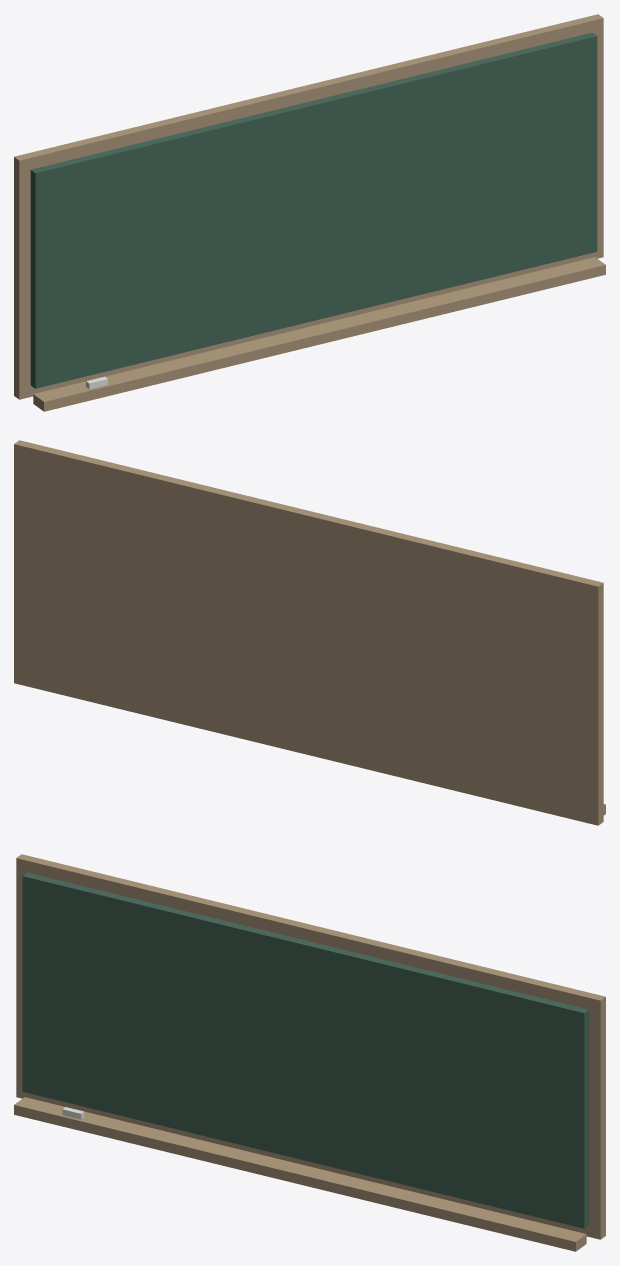
The model's file is mov_2ad0251aa4.gltf.
The picture shows the model from 3 angles, top to bottom: view 1: azimuth 30°, elevation 25°; view 2: azimuth 150°, elevation 25°; view 3: azimuth 330°, elevation 25°; orthographic projection.
Parts seen in each view (by area): view 1: mov_2ad0251aa4; view 2: mov_2ad0251aa4; view 3: mov_2ad0251aa4.
Part boxes in pixels (<box>): mov_2ad0251aa4: <box>14,14,605,411</box>; mov_2ad0251aa4: <box>14,440,605,825</box>; mov_2ad0251aa4: <box>14,854,605,1251</box>.
Bounding box in the file's own units: 3.12 × 1.25 × 0.175.
